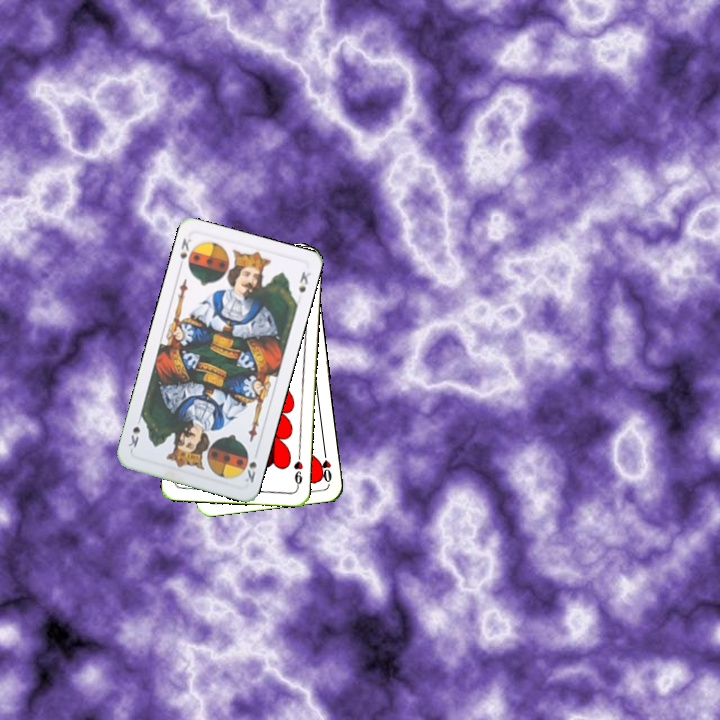H9: (290, 450, 306, 490)
HO: (316, 445, 334, 485)
SK: (175, 234, 194, 272), (240, 457, 259, 486)
